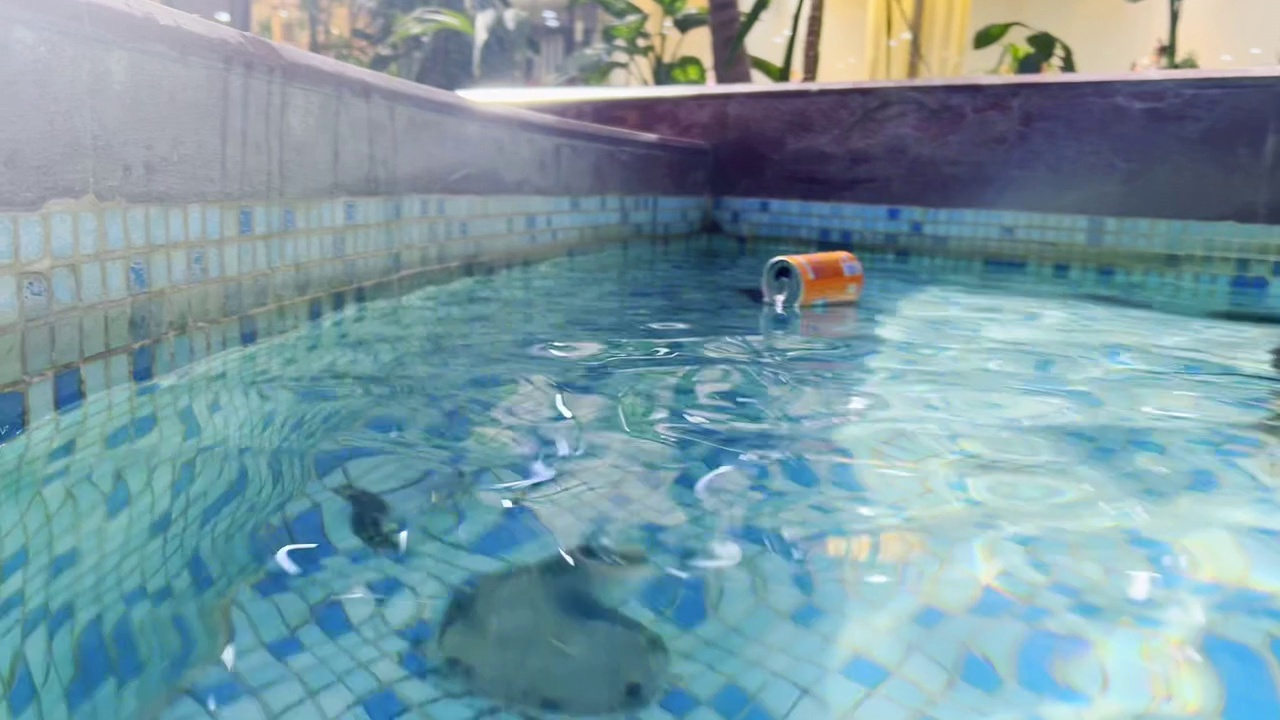debris: (752, 244, 869, 313)
